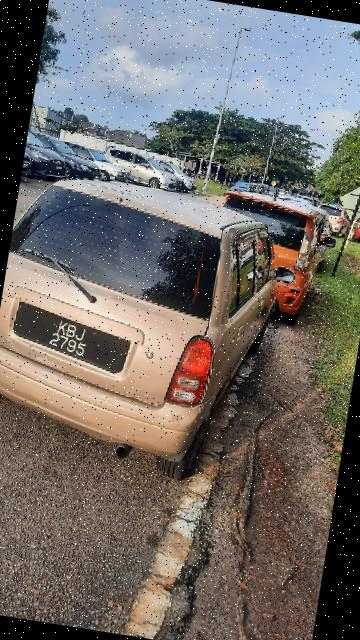License_Plate: (2, 295, 148, 387)
car: (1, 166, 311, 496)
